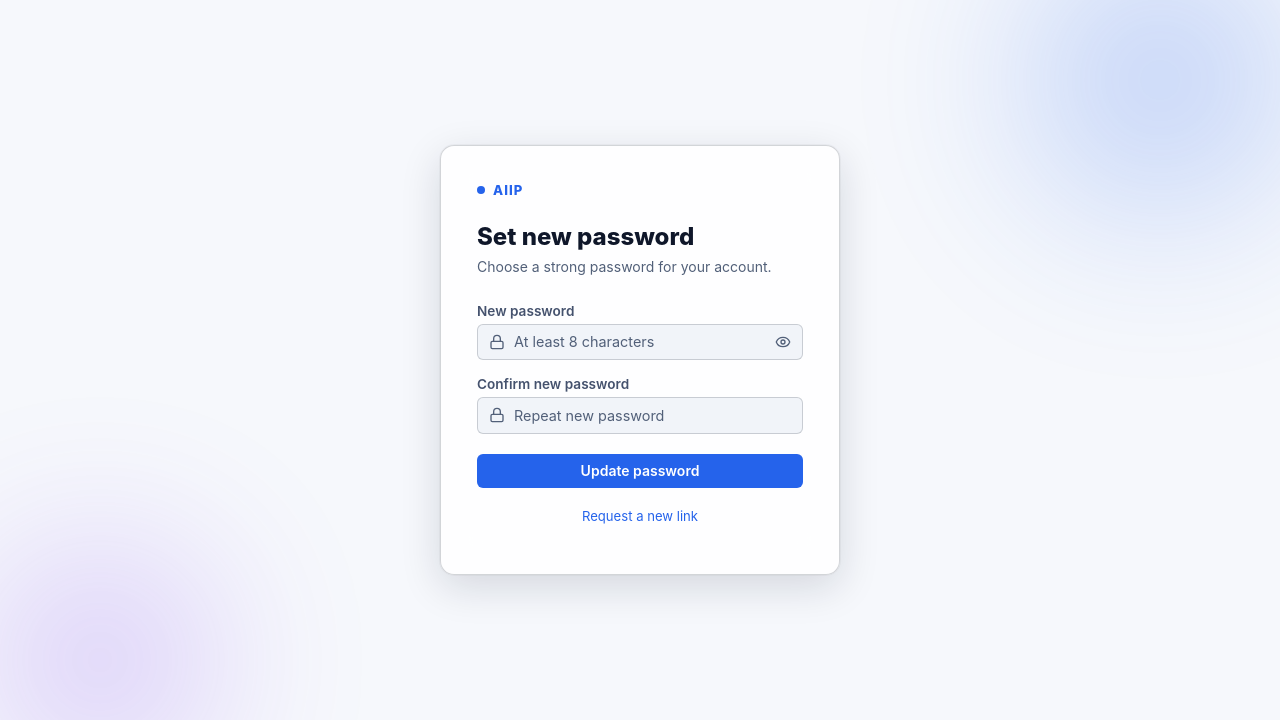
it: ResetPasswordPage › shows an error message for an invalid or expired token
Type "NewPassword1!" into the password field labelled "New password" at point(640, 342), box [477,324,803,360]
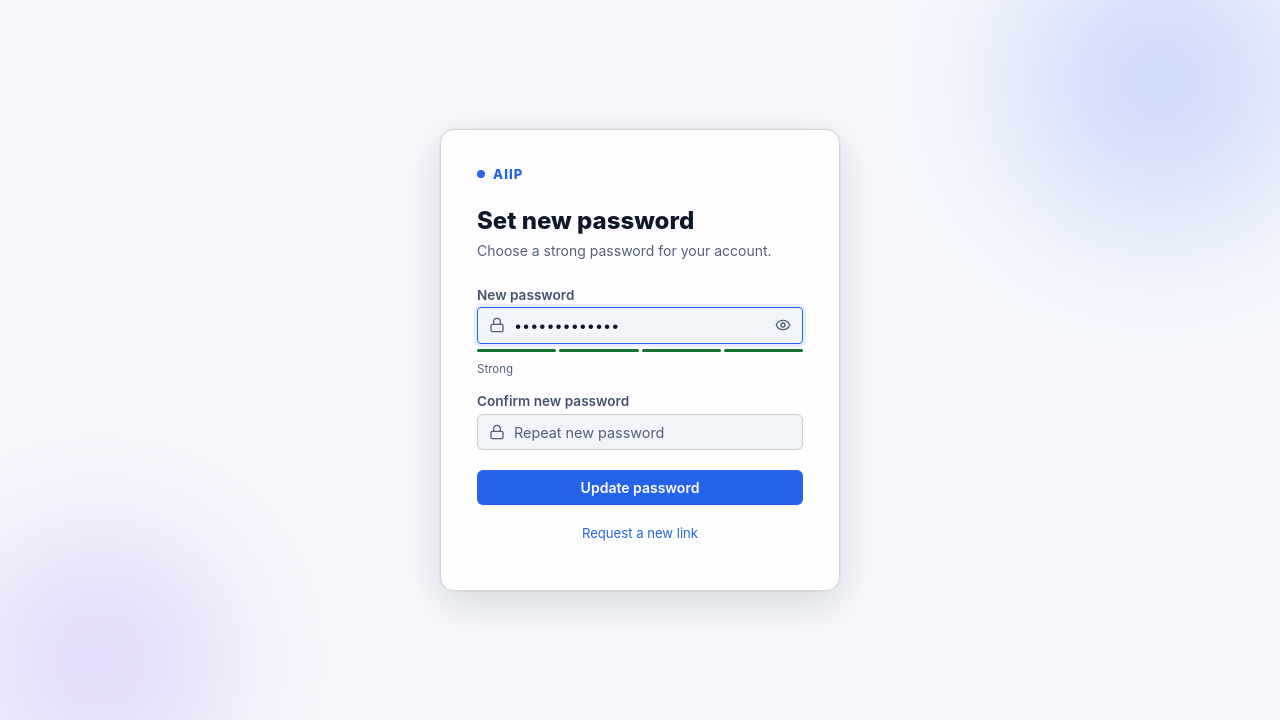
Type "NewPassword1!" into the password field labelled "Confirm new password" at point(640, 432), box [477,414,803,450]
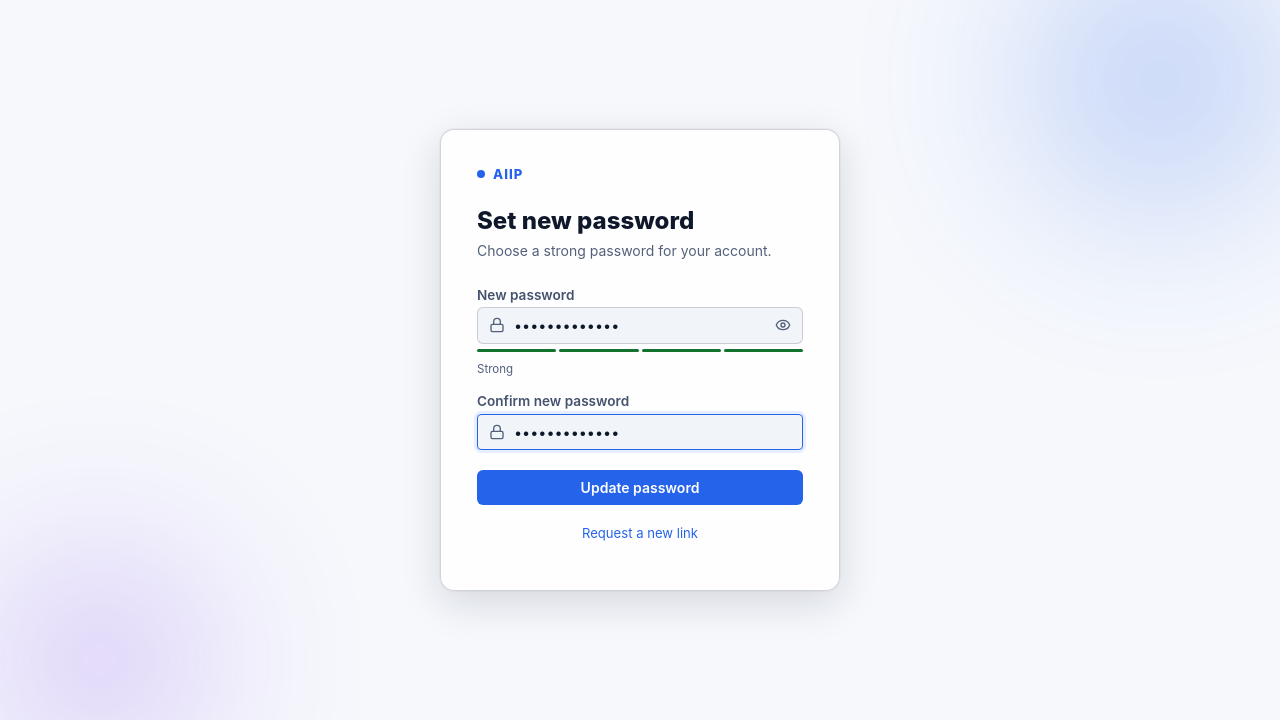
Click the button "Update password" at point(640, 488), box [477,470,803,505]
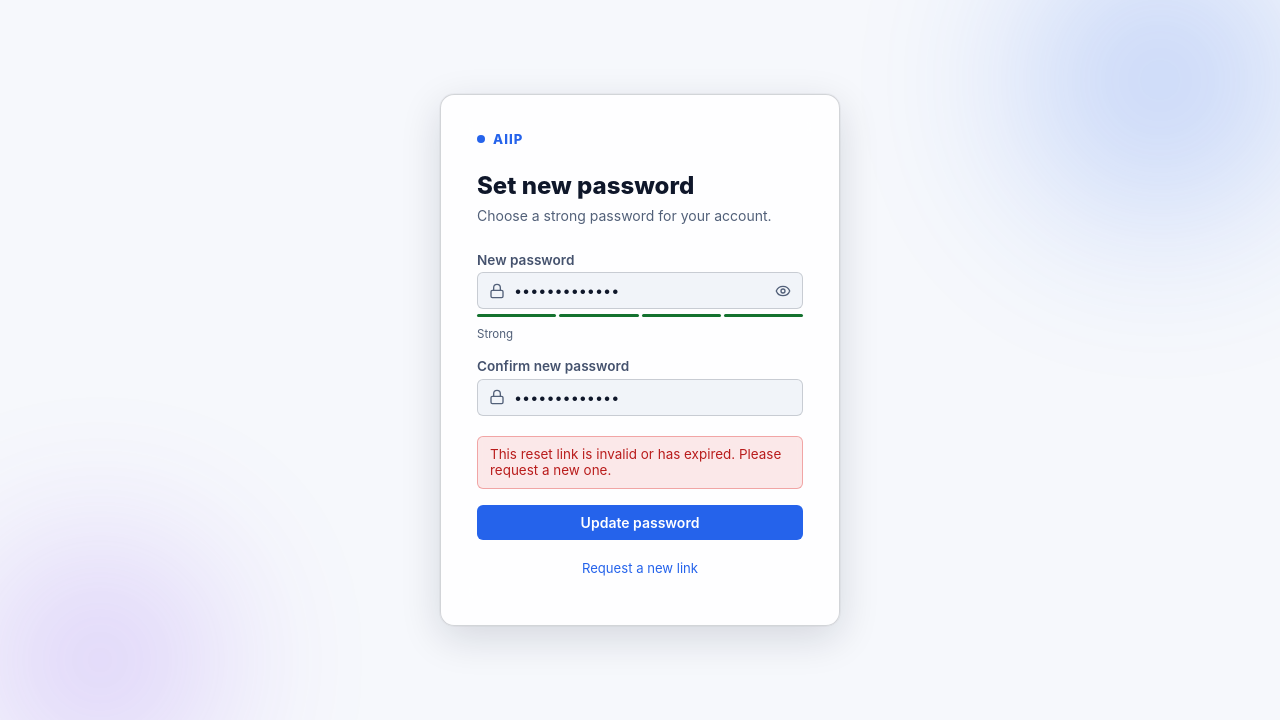
Now the message shows "invalid or has expired", box [490,446,781,478]
